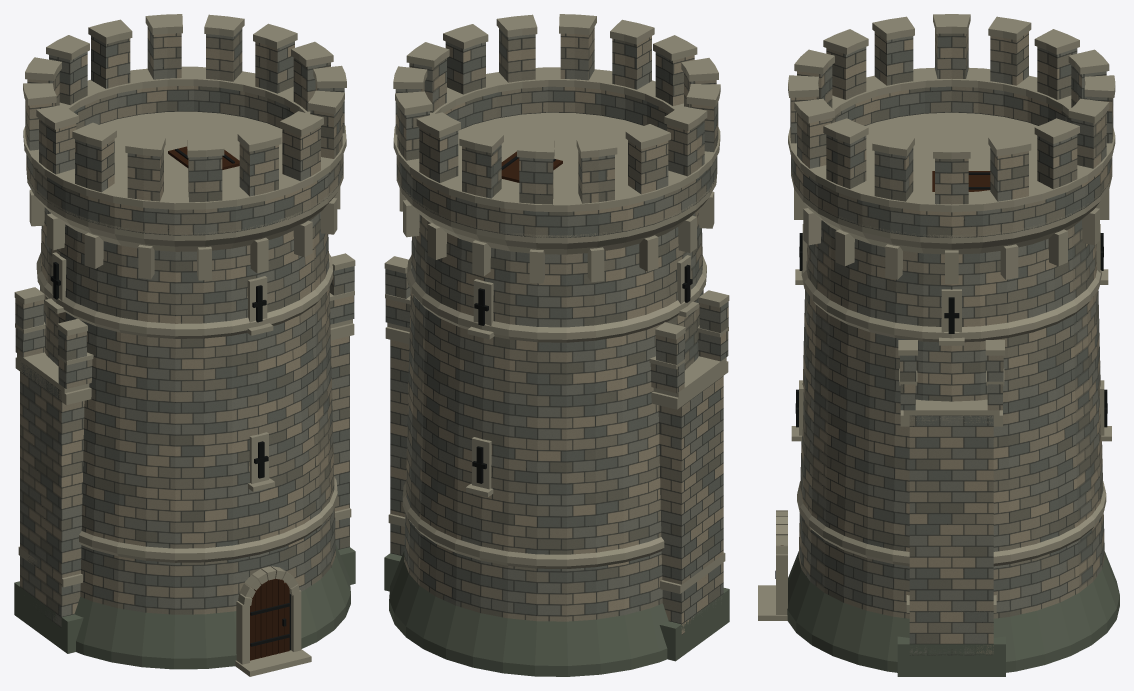
Rendered from castle_tower.obj.
The picture shows the model from 3 angles, left to right: view 1: azimuth 30°, elevation 25°; view 2: azimuth 150°, elevation 25°; view 3: azimuth 270°, elevation 25°; orthographic projection.
Visible parts, largest first — view 1: castle_tower; view 2: castle_tower; view 3: castle_tower.
Boxes of the visible parts, left/top/right/bottom form: castle_tower: left=14, top=14, right=355, bottom=676; castle_tower: left=384, top=14, right=729, bottom=676; castle_tower: left=758, top=14, right=1119, bottom=676.
Size of the model in its own units: 448 by 768 by 482.
6 materials, 1 textured.
